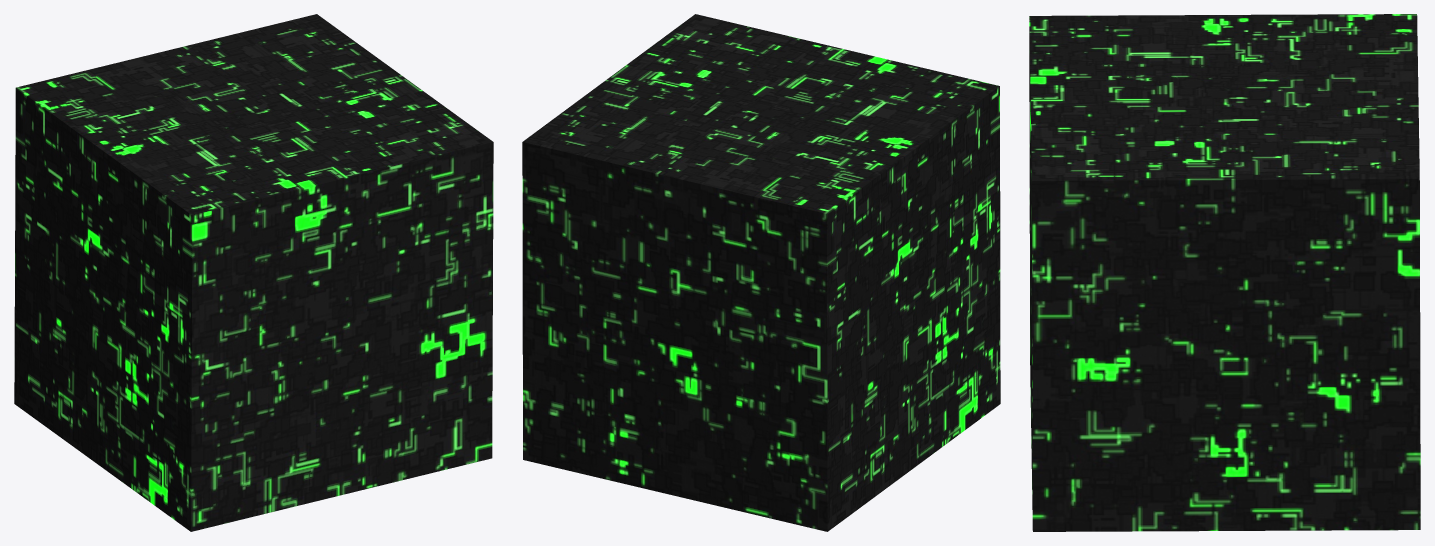
File: BorgCube.glb
The picture shows the model from 3 angles, left to right: view 1: azimuth 30°, elevation 25°; view 2: azimuth 150°, elevation 25°; view 3: azimuth 270°, elevation 25°; orthographic projection. The views are drawn at different scales.
Parts seen in each view (by area): view 1: BorgCube; view 2: BorgCube; view 3: BorgCube.
Part boxes in pixels (<box>): BorgCube: <box>14,14,493,531</box>; BorgCube: <box>522,14,1000,531</box>; BorgCube: <box>1029,14,1420,531</box>.
Bounding box in the file's own units: 3.79 × 3.78 × 3.79.
Materials: 1 (1 with a texture image).
